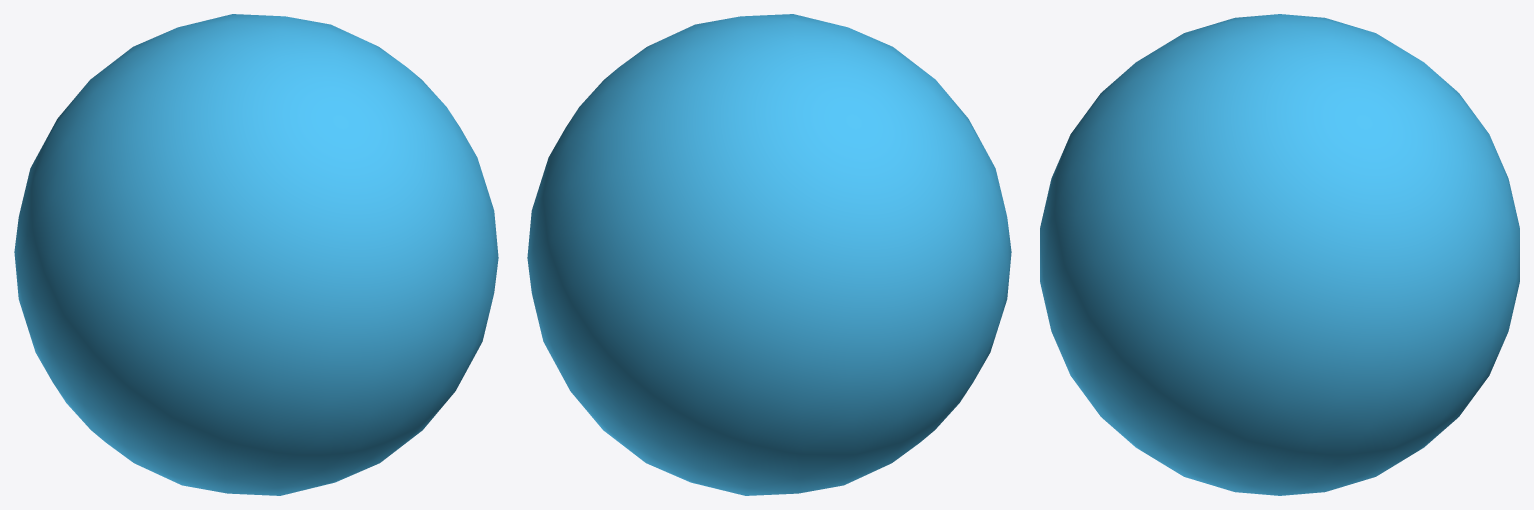
Rendered from earth.glb.
The picture shows the model from 3 angles, left to right: view 1: azimuth 30°, elevation 25°; view 2: azimuth 150°, elevation 25°; view 3: azimuth 270°, elevation 25°; orthographic projection.
Visible parts, largest first — view 1: Earth_Planet; view 2: Earth_Planet; view 3: Earth_Planet.
Part boxes in pixels (x1,y1,x2,y2): Earth_Planet: (14,14,498,495); Earth_Planet: (527,14,1011,495); Earth_Planet: (1040,14,1519,495).
Bounding box in the file's own units: 6.1 × 6.1 × 6.1.
